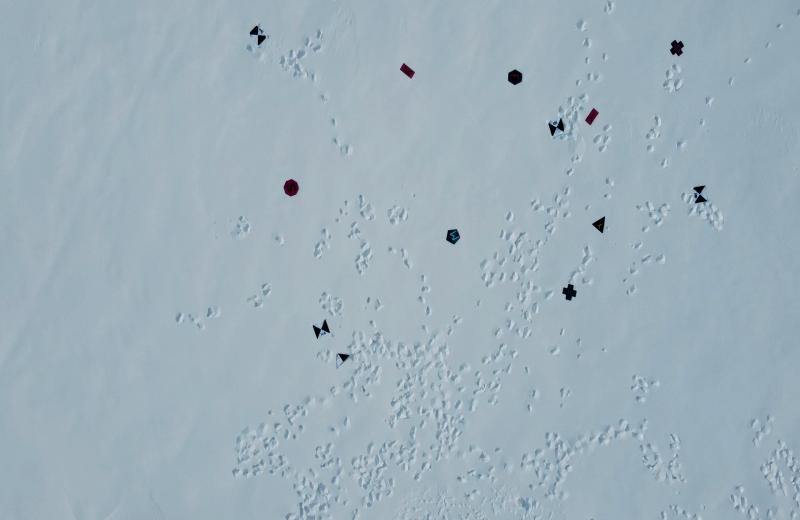Cross: (562, 282, 578, 301), (668, 40, 684, 58)
Hexagon: (507, 69, 524, 85)
Octagon: (283, 179, 299, 197)
Pentagon: (444, 227, 462, 246)
Rectangle: (398, 61, 416, 80), (584, 108, 600, 124)
Triangle: (590, 216, 607, 234)
